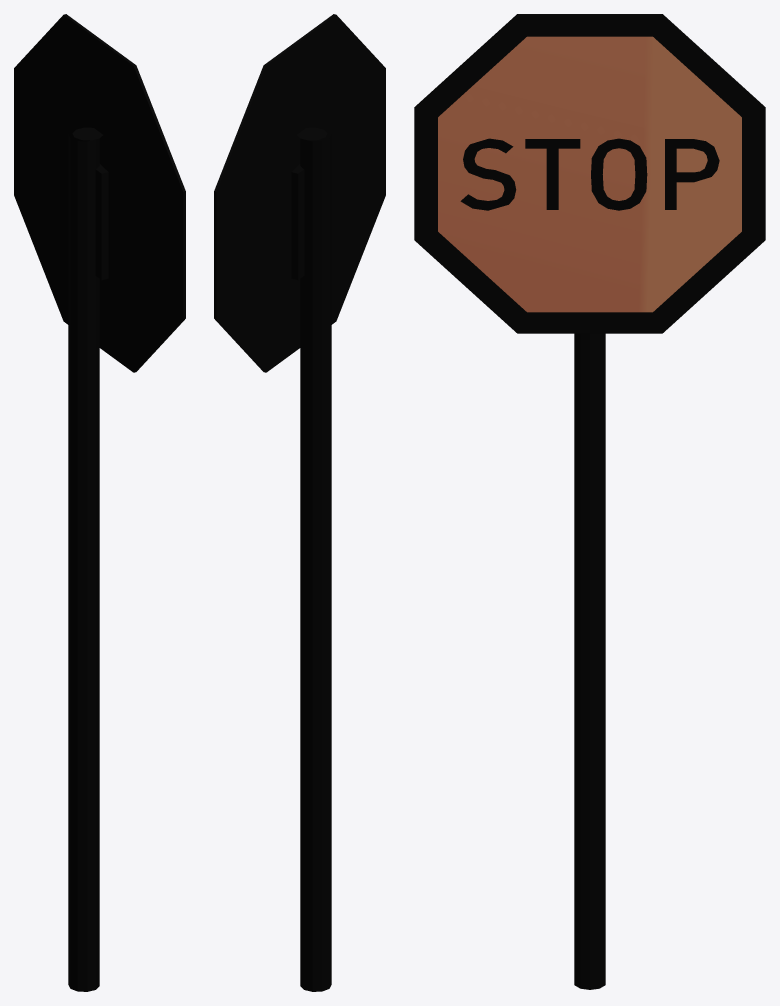
Rendered from stop_sign.glb.
3 renders of one model, left to right at view 1: azimuth 30°, elevation 25°; view 2: azimuth 150°, elevation 25°; view 3: azimuth 270°, elevation 25°, orthographic. The views are drawn at different scales.
Parts seen in each view (by area): view 1: Stop_Sign; view 2: Stop_Sign; view 3: Stop_Sign.
Boxes of the visible parts, bbox=[...] form: Stop_Sign: bbox=[14, 14, 185, 991]; Stop_Sign: bbox=[214, 14, 385, 991]; Stop_Sign: bbox=[414, 14, 765, 989].
Size of the model in its own units: 8.01 by 231 by 75.23.
Materials: 1 (1 with a texture image).
